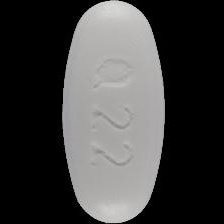68180-337: (0, 0, 224, 224)
